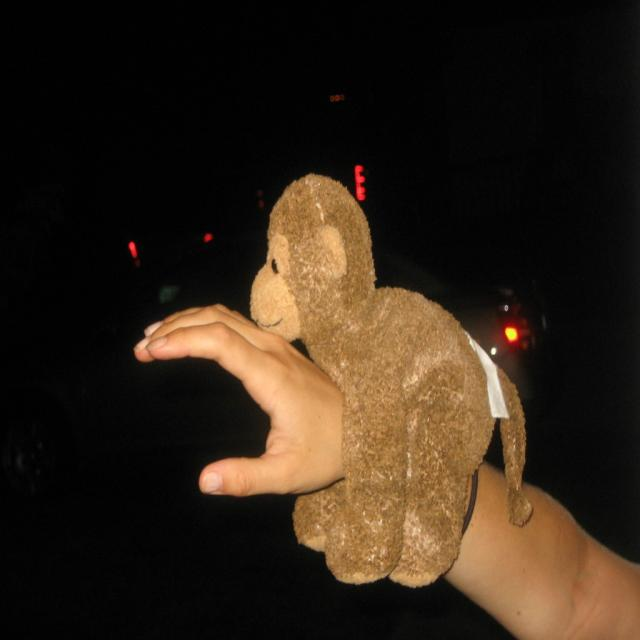Toy: (246, 160, 536, 591)
